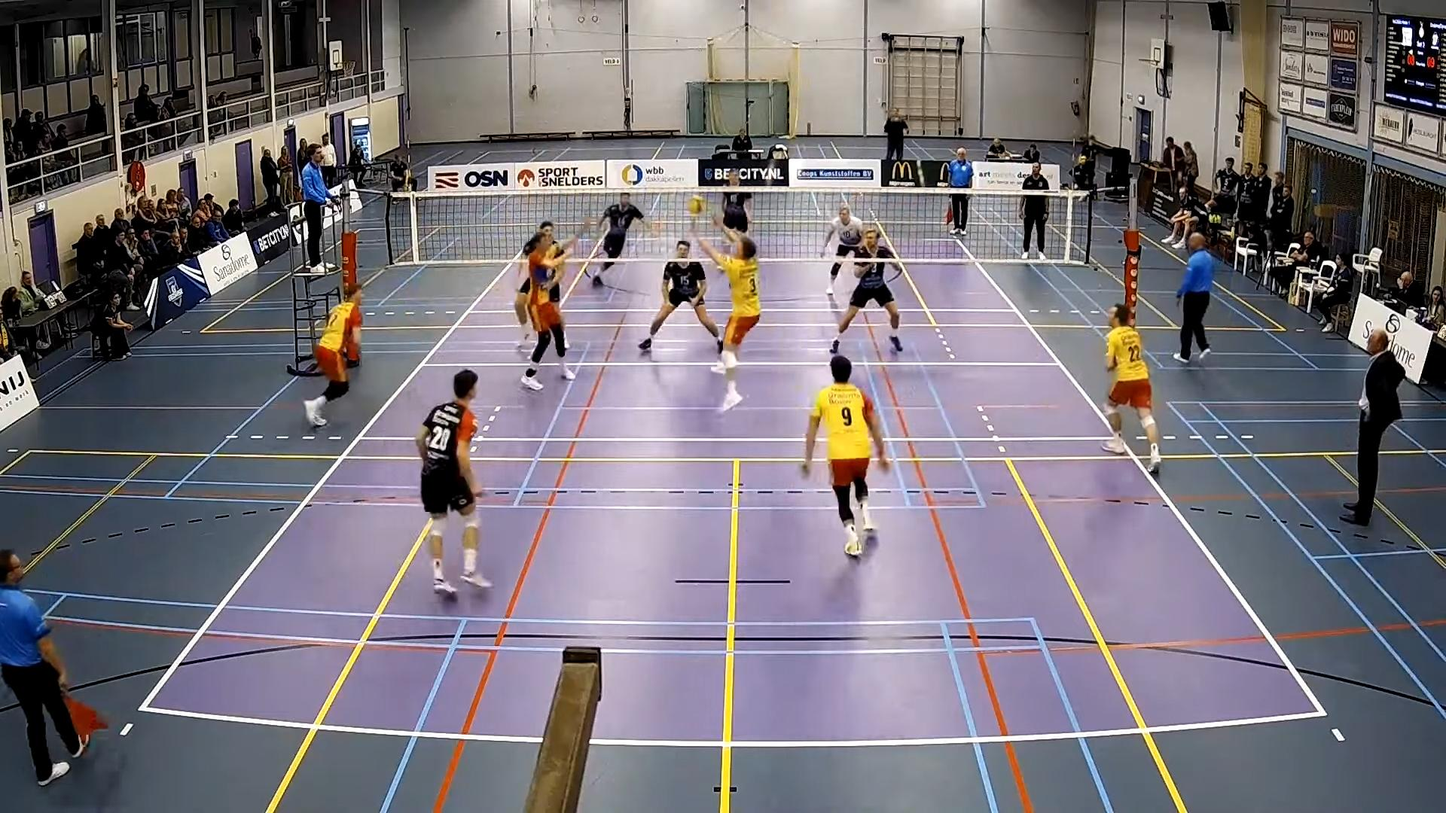Player: (802, 355, 889, 556), (415, 370, 490, 595), (1103, 305, 1161, 473), (639, 240, 722, 352), (831, 227, 901, 352), (521, 229, 575, 390), (304, 282, 361, 427), (592, 192, 644, 285), (820, 205, 865, 296), (722, 170, 752, 233), (514, 252, 533, 347)
Set: (691, 209, 768, 418)
ball: (688, 197, 703, 216)
